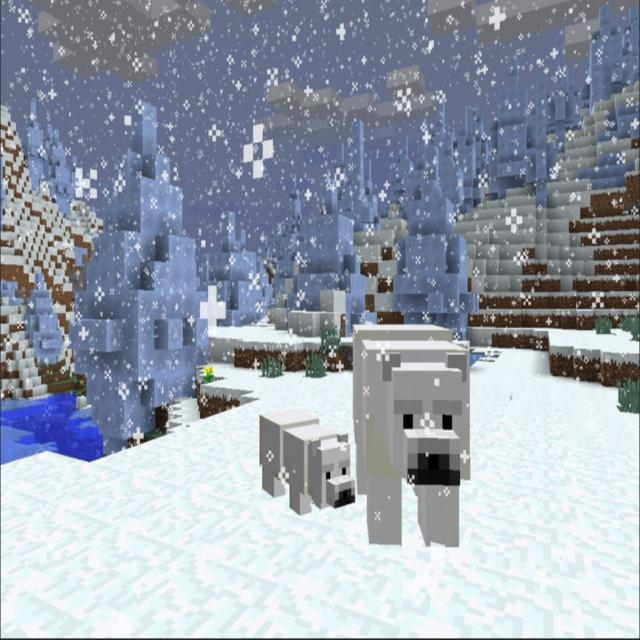Polar Bear: (351, 322, 473, 551), (258, 404, 358, 517)
